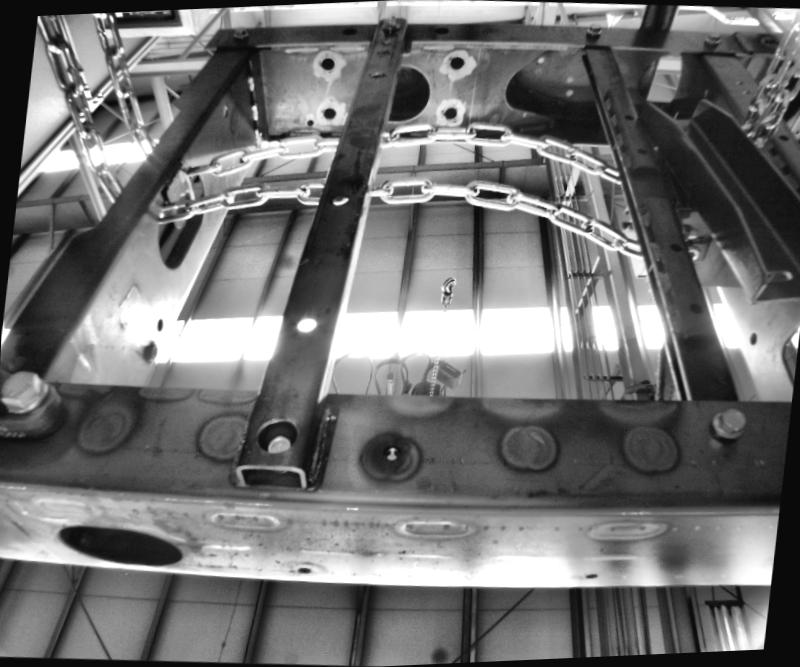bolt: (0, 361, 53, 428), (706, 406, 752, 442), (137, 340, 161, 366), (582, 20, 606, 38), (702, 30, 722, 48), (229, 24, 249, 40)
bracket: (154, 144, 204, 231)
hole: (36, 510, 192, 572), (255, 414, 296, 458), (292, 314, 320, 340), (377, 441, 402, 465), (328, 188, 350, 204), (316, 56, 336, 73), (438, 99, 457, 116), (321, 106, 338, 122), (366, 68, 386, 80), (744, 331, 760, 346), (582, 568, 598, 582), (338, 24, 358, 35), (447, 51, 463, 64), (296, 564, 312, 576), (431, 26, 447, 34), (378, 30, 390, 40), (154, 318, 162, 332), (306, 118, 314, 125)
welding: (243, 71, 258, 91), (250, 127, 262, 147), (248, 102, 259, 122)
